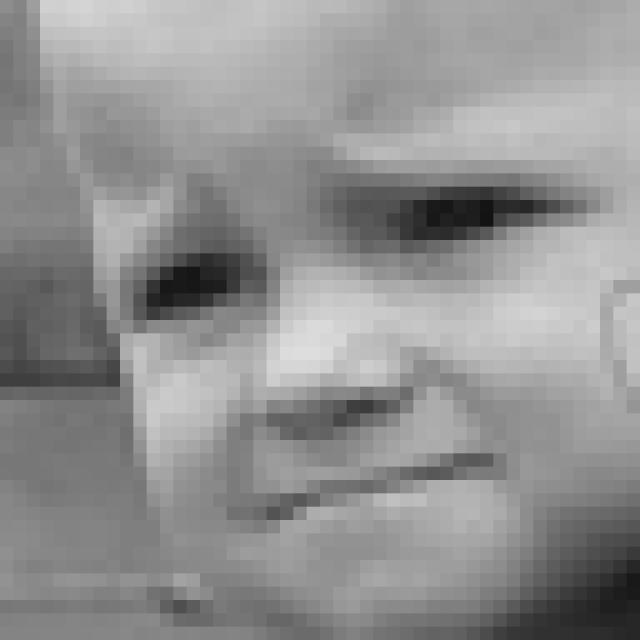disgust: (116, 114, 610, 544)
